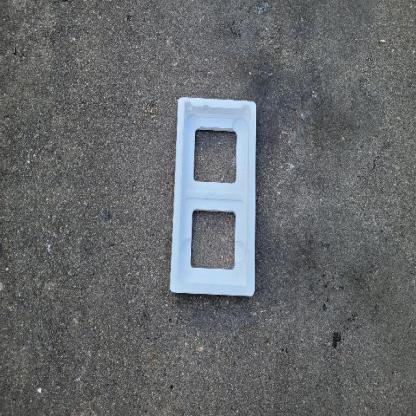Glass Cup: (168, 96, 257, 296), (170, 97, 256, 296)
